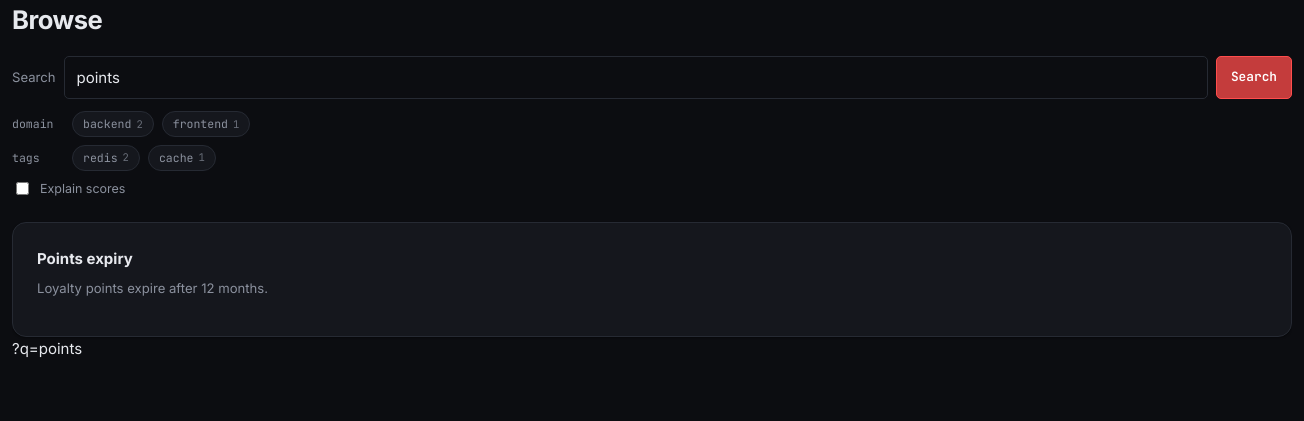
ItemsPage (faceted browse) › shows a score breakdown when Explain is on and a hit has one
Expected: the text "Points expiry" is shown, 37,249 -> 133,268
Click the checkbox labelled "Explain scores": (22, 188) 16,182 -> 29,195
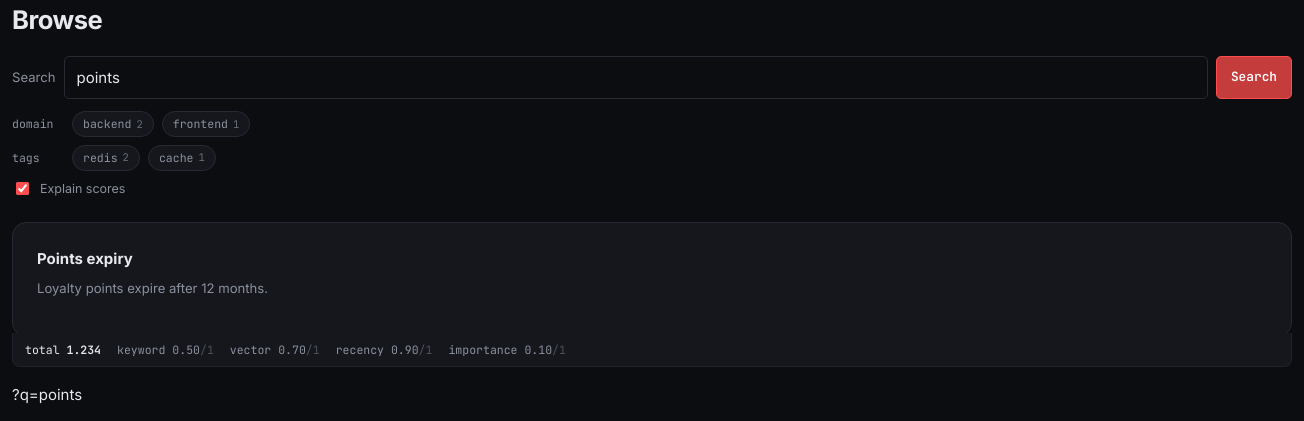
Result: the element with test id "score-breakdown" shows "keyword" at 117,342 -> 165,357
Result: the element with test id "score-breakdown" shows "1.234" at 66,342 -> 101,357
